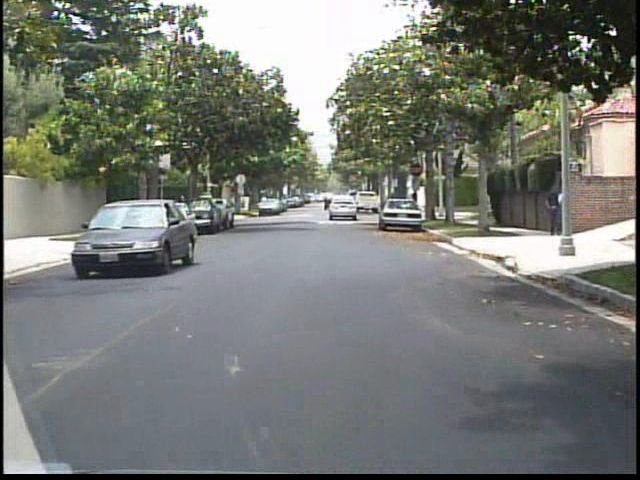person: (543, 179, 561, 239), (163, 192, 179, 232)
